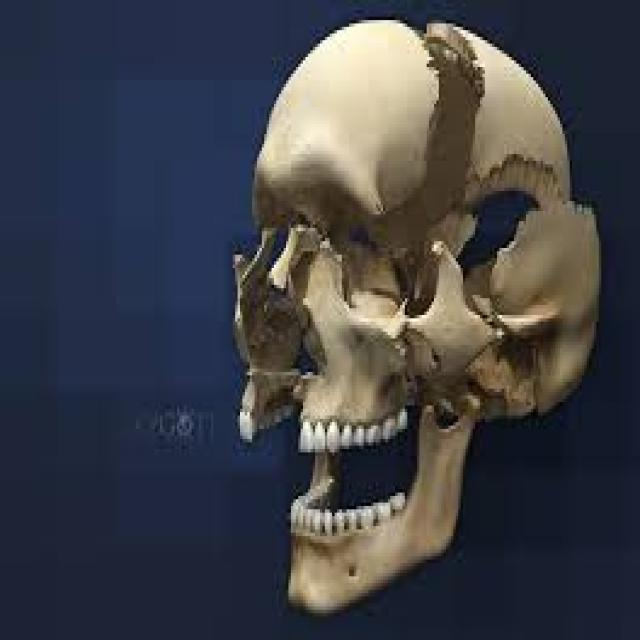skull: (212, 0, 619, 640)
